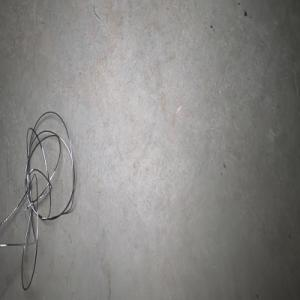Wire: (0, 111, 74, 290)
